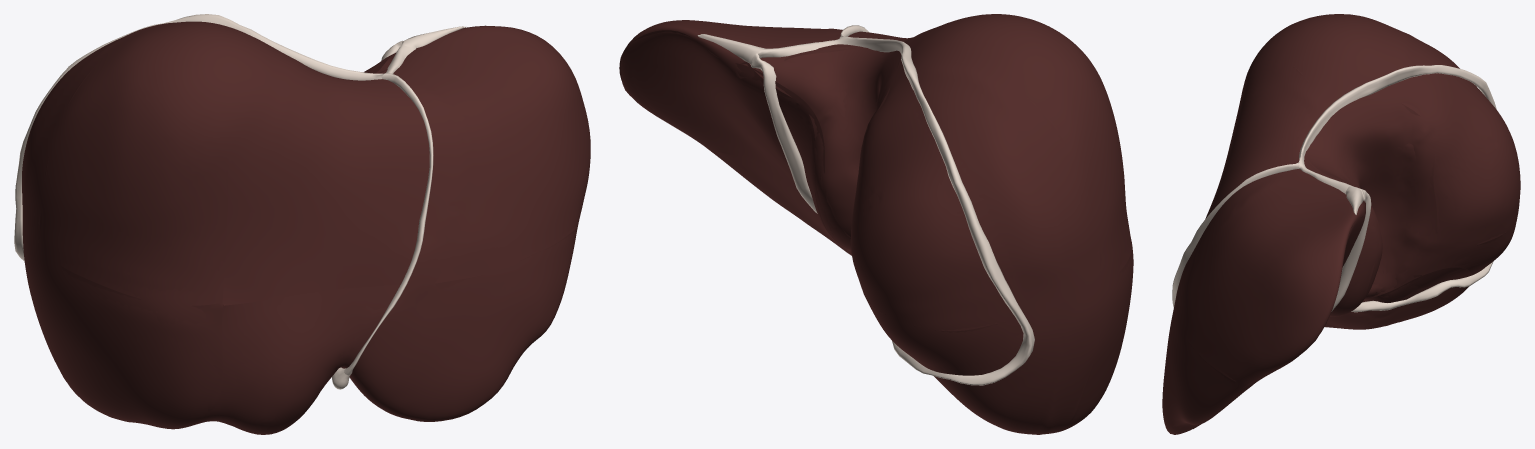
File: VH_F_Liver.glb
3 views of the same model, side by side, from view 1: azimuth 30°, elevation 25°; view 2: azimuth 150°, elevation 25°; view 3: azimuth 270°, elevation 25° (orthographic). The views are drawn at different scales.
Parts seen in each view (by area): view 1: VH_F_capsule_of_the_liver, VH_F_left_superomedial_segment1, VH_F_left_inferomedial_segment, VH_F_right_anterosuperior_segment, VH_F_right_anteroinferior_segment, VH_F_coronary_ligament_of_liver, VH_F_left_superomedial_segment, VH_F_falciform_ligament, VH_F_left_anterolateral_segment; view 2: VH_F_capsule_of_the_liver, VH_F_bare_area_of_liver, VH_F_left_superomedial_segment, VH_F_coronary_ligament_of_liver, VH_F_diaphragmatic_surface_of_liver, VH_F_caudate_lobe, VH_F_right_posterosuperior_segment, VH_F_ligamentum_venosum, VH_F_gastric_impression_of_liver, VH_F_left_anterolateral_segment, VH_F_right_posteroinferior_segment, VH_F_right_anterosuperior_segment (+3 smaller); view 3: VH_F_capsule_of_the_liver, VH_F_bare_area_of_liver, VH_F_caudate_lobe, VH_F_coronary_ligament_of_liver, VH_F_left_superomedial_segment1, VH_F_right_posterosuperior_segment, VH_F_diaphragmatic_surface_of_liver, VH_F_left_superomedial_segment, VH_F_falciform_ligament, VH_F_ligamentum_venosum, VH_F_right_posteroinferior_segment, VH_F_suprarenal_impression_of_liver (+2 smaller).
Part boxes in pixels (x1,y1,x2,y2): VH_F_capsule_of_the_liver: (22, 21, 590, 434); VH_F_left_superomedial_segment1: (222, 55, 433, 305); VH_F_left_inferomedial_segment: (209, 284, 398, 433); VH_F_right_anterosuperior_segment: (38, 23, 278, 305); VH_F_right_anteroinferior_segment: (39, 264, 223, 426); VH_F_coronary_ligament_of_liver: (14, 14, 413, 261); VH_F_left_superomedial_segment: (380, 31, 581, 284); VH_F_falciform_ligament: (344, 73, 433, 375); VH_F_left_anterolateral_segment: (342, 226, 577, 418); VH_F_capsule_of_the_liver: (619, 14, 1133, 434); VH_F_bare_area_of_liver: (749, 47, 1023, 375); VH_F_left_superomedial_segment: (622, 22, 840, 179); VH_F_coronary_ligament_of_liver: (767, 36, 1034, 385); VH_F_diaphragmatic_surface_of_liver: (619, 30, 996, 425); VH_F_caudate_lobe: (778, 47, 899, 250); VH_F_right_posterosuperior_segment: (851, 61, 1101, 331); VH_F_ligamentum_venosum: (751, 53, 817, 213); VH_F_gastric_impression_of_liver: (668, 64, 851, 255); VH_F_left_anterolateral_segment: (716, 151, 828, 234); VH_F_right_posteroinferior_segment: (866, 299, 1101, 434); VH_F_right_anterosuperior_segment: (897, 30, 1132, 282); VH_F_capsule_of_the_liver: (1162, 14, 1472, 434); VH_F_bare_area_of_liver: (1306, 74, 1520, 298); VH_F_caudate_lobe: (1305, 98, 1439, 316); VH_F_coronary_ligament_of_liver: (1298, 65, 1496, 312); VH_F_left_superomedial_segment1: (1199, 64, 1323, 240); VH_F_right_posterosuperior_segment: (1393, 31, 1517, 244); VH_F_diaphragmatic_surface_of_liver: (1170, 201, 1494, 433); VH_F_left_superomedial_segment: (1176, 172, 1365, 381); VH_F_falciform_ligament: (1172, 162, 1298, 307); VH_F_ligamentum_venosum: (1331, 189, 1371, 311); VH_F_right_posteroinferior_segment: (1386, 226, 1513, 325); VH_F_suprarenal_impression_of_liver: (1399, 267, 1471, 289).
Size of the model in its own units: 0.2471 by 0.17 by 0.1663.
